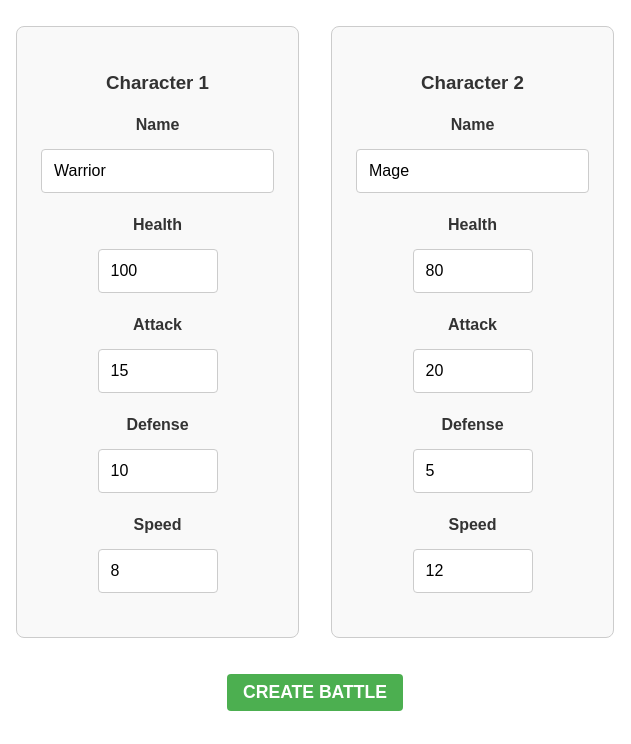
Test: App › handles API errors gracefully
This screenshot has width=631, height=744.
(page scrolled)
Note: Click create battle
Click the button "Create Battle": x=315, y=693 [227,674,403,711]
(page scrolled)
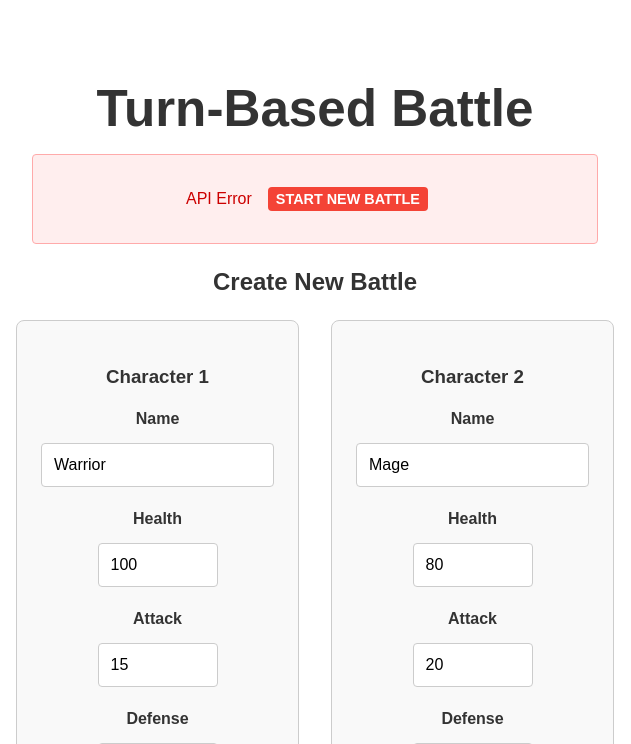
expect the text "API Error" is shown: met, box [186,190,252,207]
